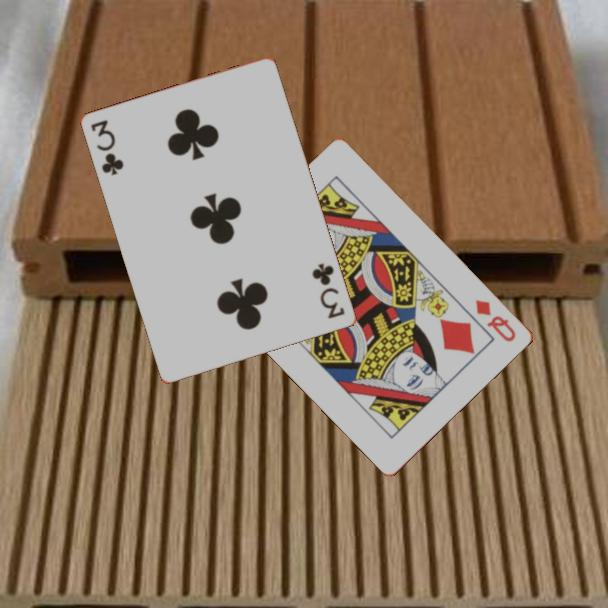c03: (87, 116, 127, 179), (309, 260, 348, 322)
d12: (472, 296, 519, 345)
